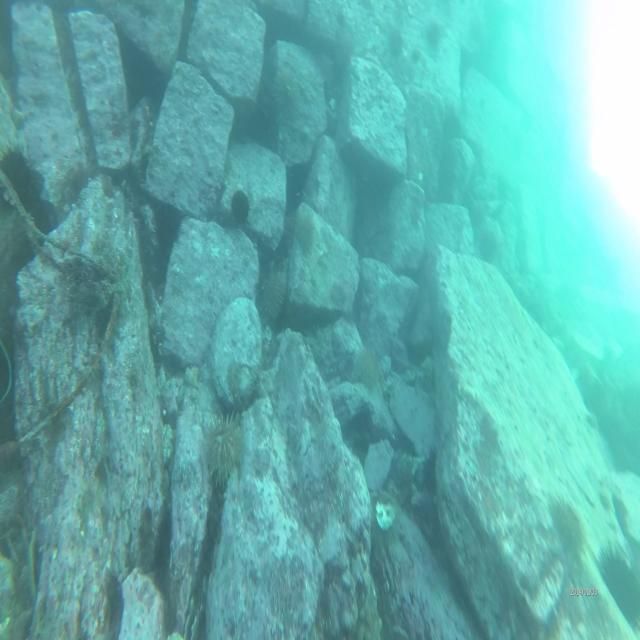echinus: (202, 404, 244, 489), (547, 491, 590, 568), (0, 138, 34, 208), (352, 337, 385, 398), (260, 263, 288, 325)
